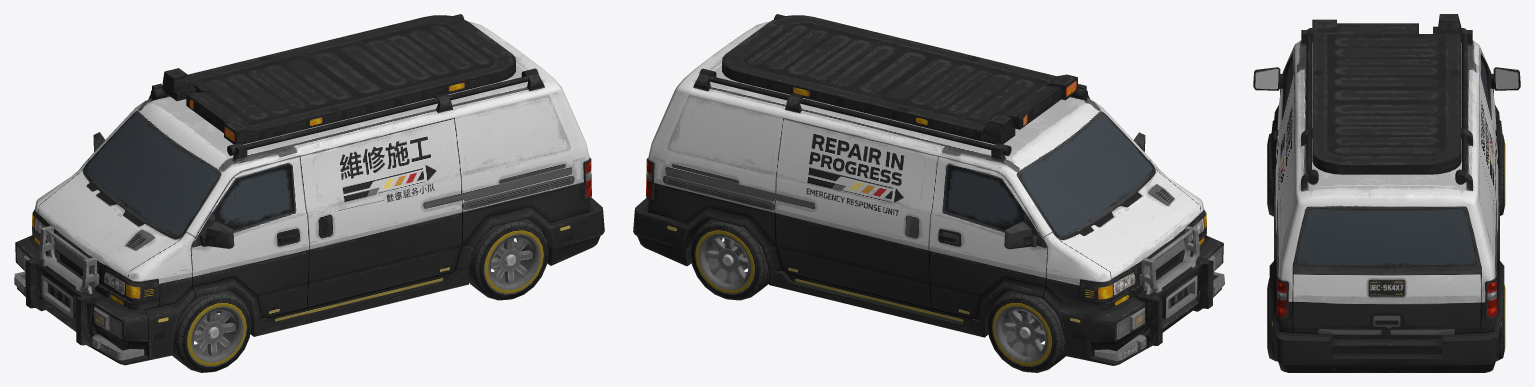
The model's file is CP_Minivan.fbx.
The picture shows the model from 3 angles, left to right: view 1: azimuth 30°, elevation 25°; view 2: azimuth 150°, elevation 25°; view 3: azimuth 270°, elevation 25°; orthographic projection.
Visible parts, largest first — view 1: CP_Minivan_LOD0, CP_Minivan_Wheel_01_LOD0, CP_Minivan_Wheel_02_LOD0; view 2: CP_Minivan_LOD0, CP_Minivan_Wheel_04_LOD0, CP_Minivan_Wheel_03_LOD0; view 3: CP_Minivan_LOD0, CP_Minivan_Wheel_01_LOD0, CP_Minivan_Wheel_02_LOD0, CP_Minivan_Wheel_04_LOD0, CP_Minivan_Wheel_03_LOD0.
Boxes of the visible parts, <box> form: CP_Minivan_LOD0: <box>14,14,604,365</box>; CP_Minivan_Wheel_01_LOD0: <box>172,290,251,372</box>; CP_Minivan_Wheel_02_LOD0: <box>469,219,548,300</box>; CP_Minivan_LOD0: <box>633,14,1224,365</box>; CP_Minivan_Wheel_04_LOD0: <box>987,291,1065,372</box>; CP_Minivan_Wheel_03_LOD0: <box>690,219,769,300</box>; CP_Minivan_LOD0: <box>1253,14,1520,372</box>; CP_Minivan_Wheel_01_LOD0: <box>1267,133,1273,216</box>; CP_Minivan_Wheel_02_LOD0: <box>1267,278,1276,361</box>; CP_Minivan_Wheel_04_LOD0: <box>1500,134,1505,215</box>; CP_Minivan_Wheel_03_LOD0: <box>1497,284,1505,360</box>.
Size of what is drawn, in the model's own units: 477 by 202 by 221.
